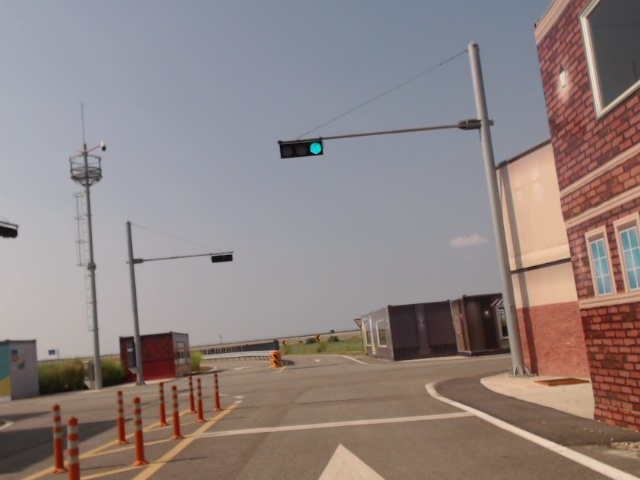green_3: (279, 141, 324, 159)
